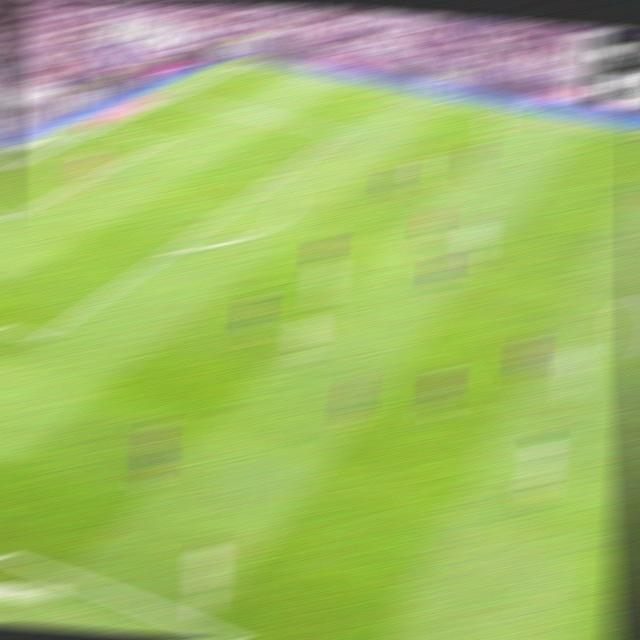bigarea_bottom_inner: (29, 325, 53, 350)
bigarea_top_inner: (329, 126, 351, 140)
bottom_arc_area_intersection: (162, 238, 186, 257)
corner: (236, 58, 258, 68)
smallarea_bottom_inner: (0, 210, 16, 228)
smallarea_top_inner: (150, 136, 171, 148)
top_arc_area_intersection: (263, 171, 286, 186)
